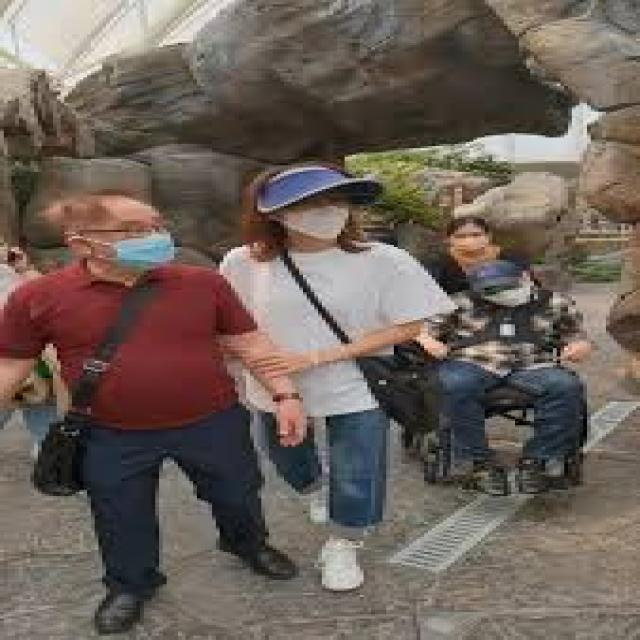wheelchairs: (394, 281, 606, 490)
